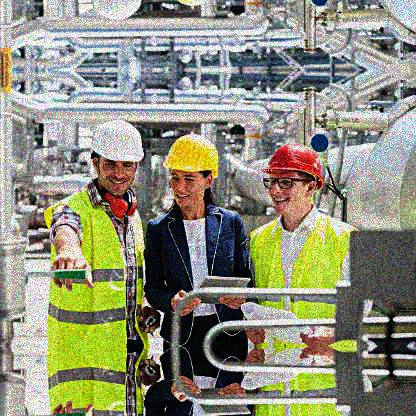helmet: (162, 134, 221, 208), (92, 119, 146, 196), (265, 144, 325, 212)
